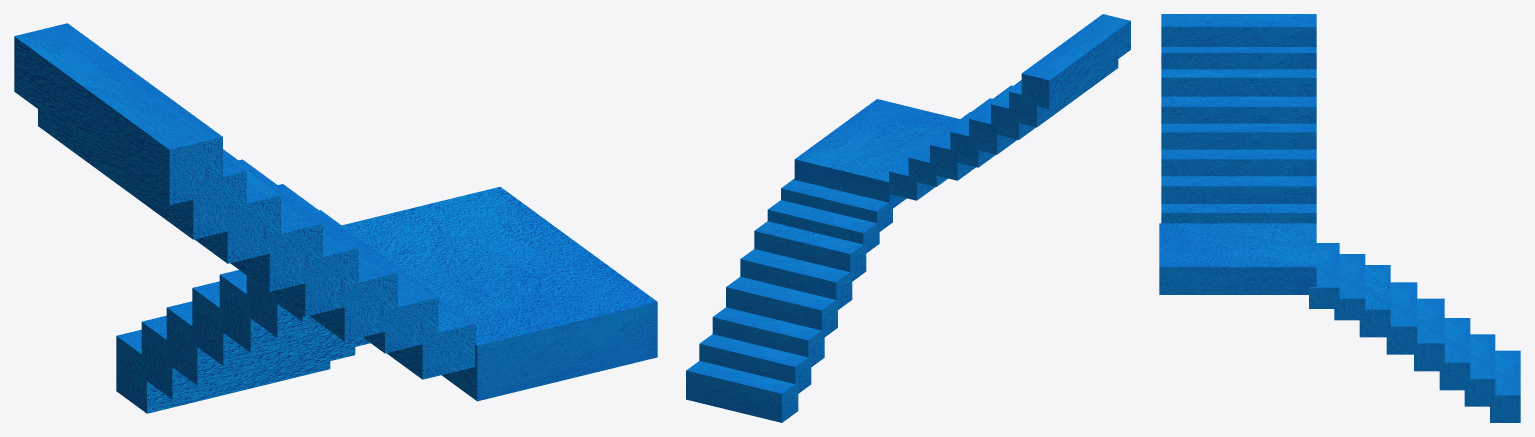
Rendered from escalera02.fbx.
3 renders of one model, left to right at view 1: azimuth 30°, elevation 25°; view 2: azimuth 150°, elevation 25°; view 3: azimuth 270°, elevation 25°, orthographic. The views are drawn at different scales.
Parts seen in each view (by area): view 1: Cubo.001; view 2: Cubo.001; view 3: Cubo.001.
Boxes of the visible parts, x1,y1,x2,y2 form: Cubo.001: (14, 23, 657, 413); Cubo.001: (686, 14, 1130, 422); Cubo.001: (1159, 14, 1520, 422).
Size of the model in its own units: 904 by 1023 by 1157.
17 materials, 17 textured.
